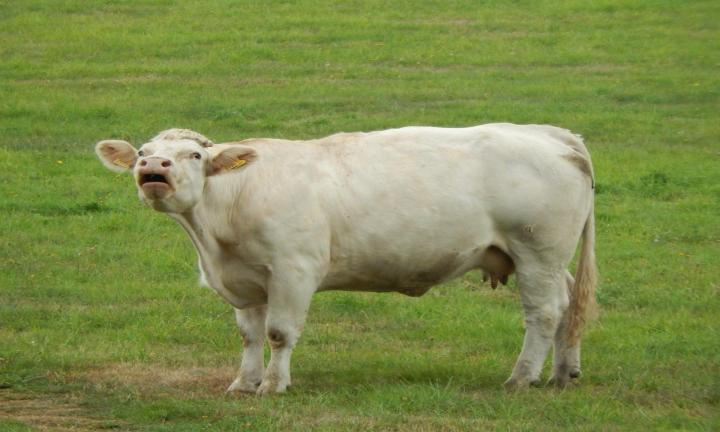Charolais: (96, 123, 596, 394)
